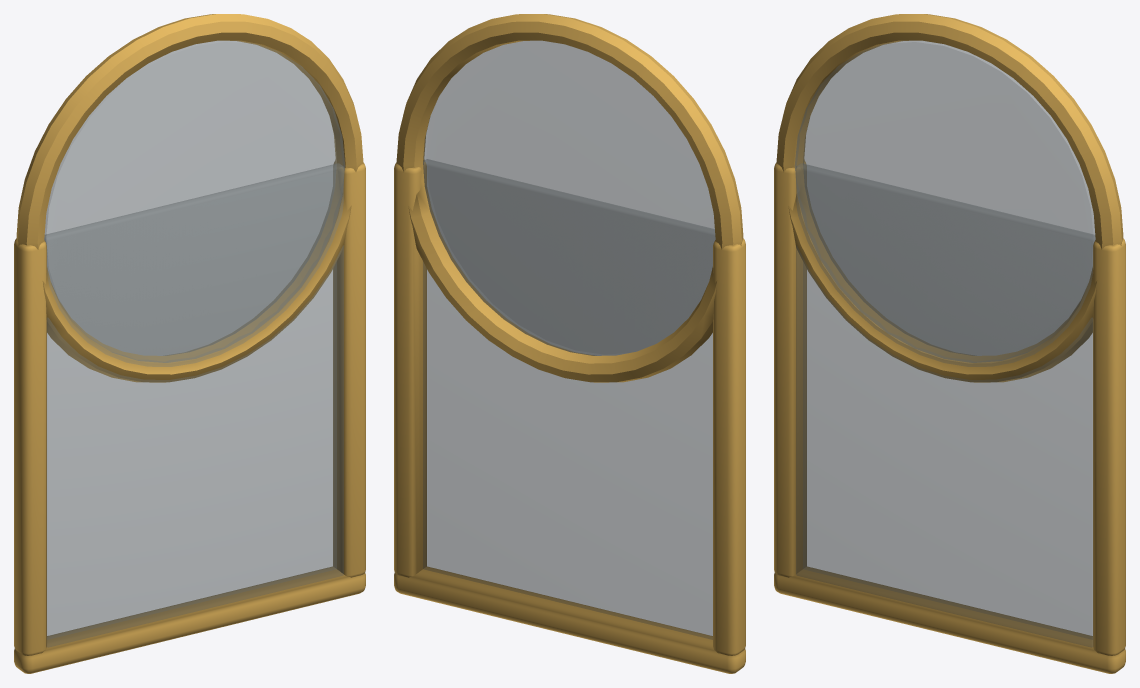
The model's file is mirror-arch.glb.
The picture shows the model from 3 angles, left to right: view 1: azimuth 30°, elevation 25°; view 2: azimuth 150°, elevation 25°; view 3: azimuth 330°, elevation 25°; orthographic projection.
Parts seen in each view (by area): view 1: mirror-arch; view 2: mirror-arch; view 3: mirror-arch.
Boxes of the visible parts, x1,y1,x2,y2 form: mirror-arch: [14, 14, 365, 673]; mirror-arch: [394, 14, 745, 673]; mirror-arch: [774, 14, 1125, 673].
Size of the model in its own units: 0.69 by 1.18 by 0.05.
